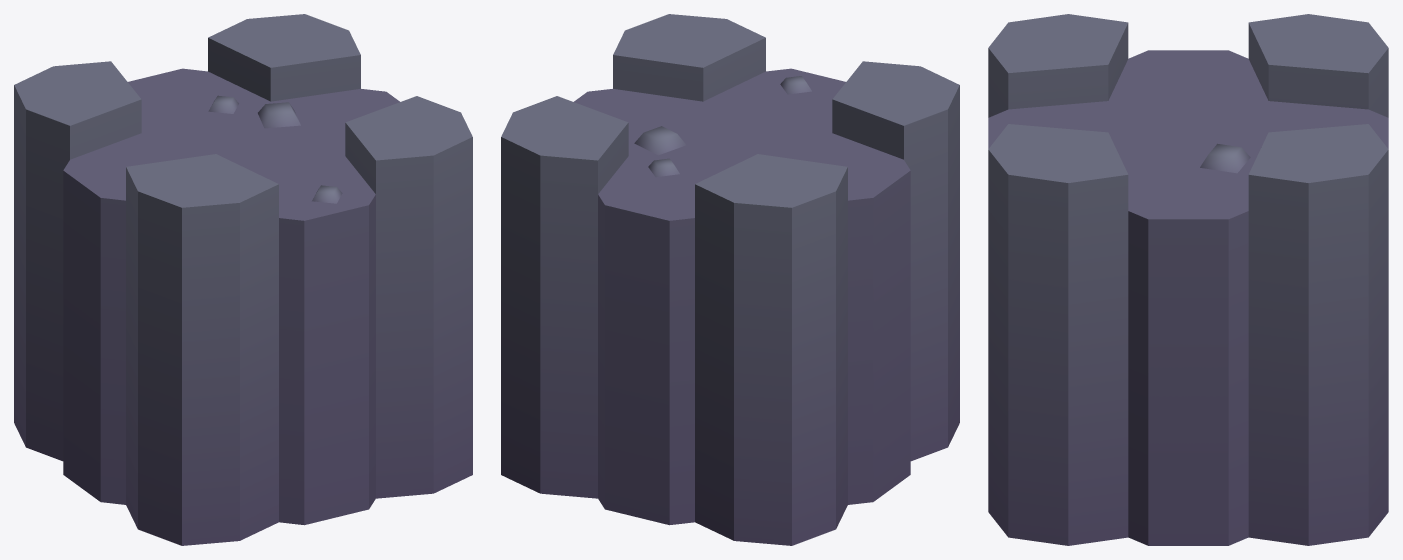
File: rocks-high.glb
3 views of the same model, side by side, from view 1: azimuth 30°, elevation 25°; view 2: azimuth 150°, elevation 25°; view 3: azimuth 270°, elevation 25° (orthographic). The views are drawn at different scales.
Visible parts, largest first — view 1: rocks-high; view 2: rocks-high; view 3: rocks-high.
Boxes of the visible parts, x1,y1,x2,y2 form: rocks-high: (14,14,472,545); rocks-high: (501,14,959,545); rocks-high: (988,14,1388,545).
Bounding box in the file's own units: 1 × 1 × 1.
